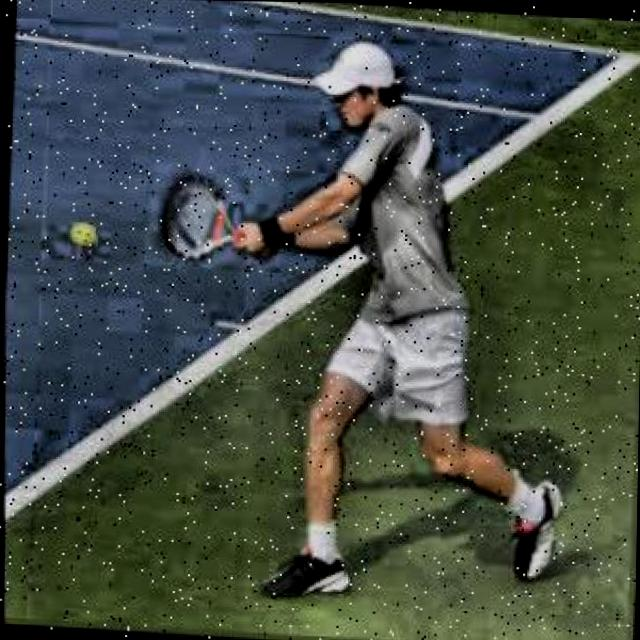Tennis Ball: (66, 225, 99, 258)
